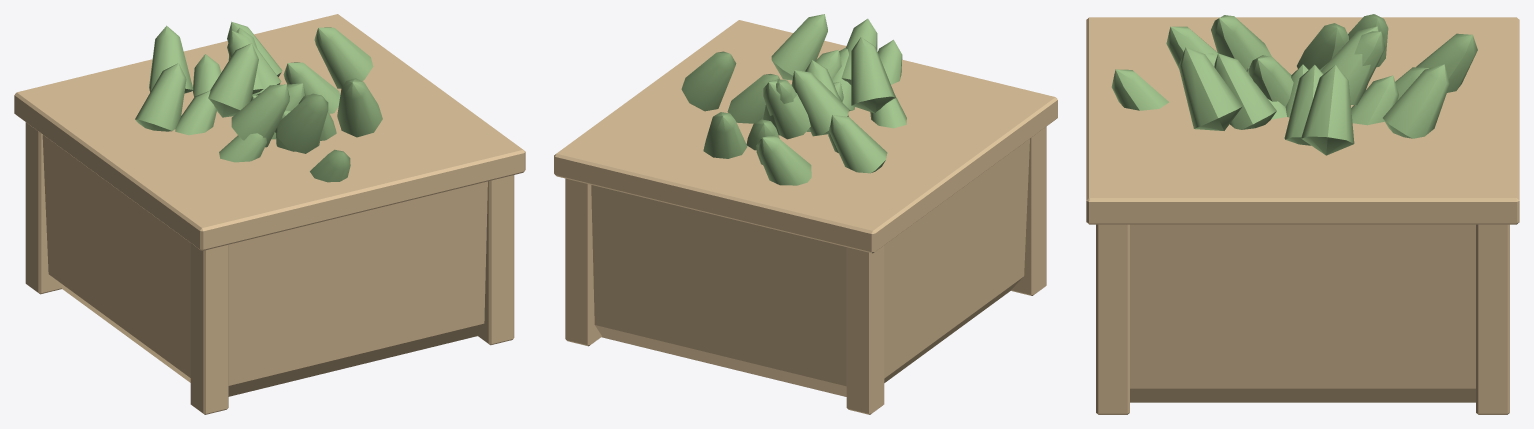
The picture shows the model from 3 angles, left to right: view 1: azimuth 30°, elevation 25°; view 2: azimuth 150°, elevation 25°; view 3: azimuth 270°, elevation 25°; orthographic projection. The views are drawn at different scales.
Parts seen in each view (by area): view 1: planter; view 2: planter; view 3: planter.
Boxes of the visible parts, left/top/right/bottom form: planter: left=14, top=14, right=525, bottom=414; planter: left=554, top=14, right=1057, bottom=414; planter: left=1086, top=14, right=1519, bottom=414.
Bounding box in the file's own units: 0.89 × 0.6778 × 0.89.
